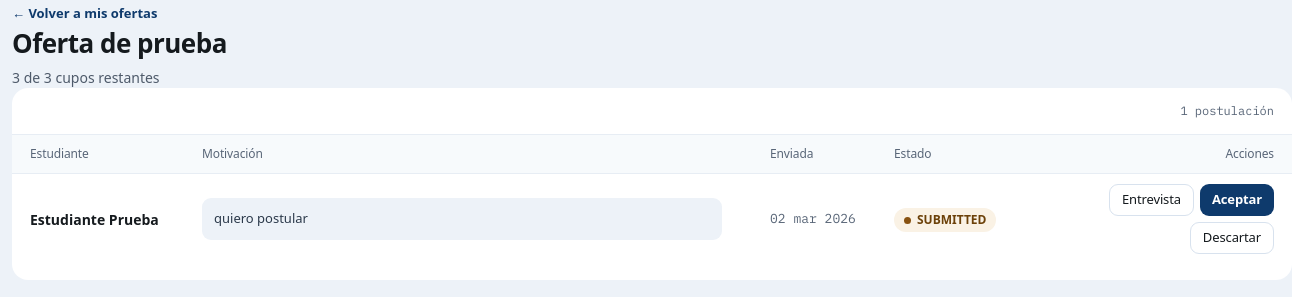
Scenario: OfferApplicationsPage — mensajes de error de carga (F-1b) › cuando falla la recarga tras decidir: 403
Click the button "Aceptar": (1237, 200) [1200,184,1274,216]
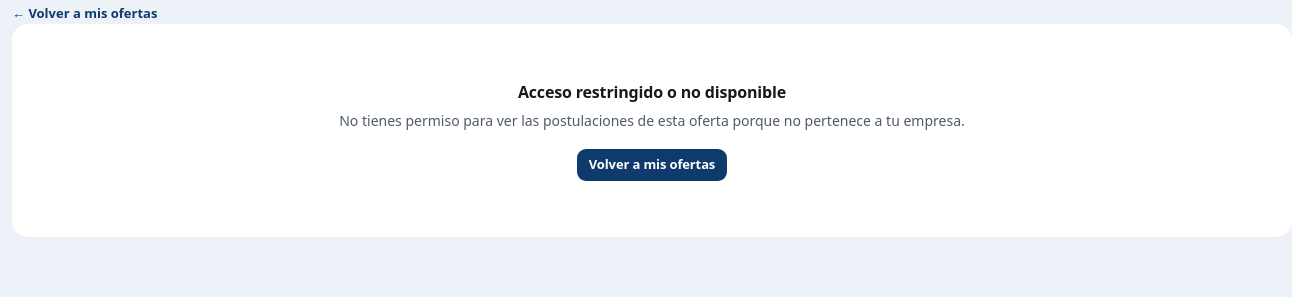
Now the text "No tienes permiso para ver las postulaciones de esta oferta porque no pertenece a tu empresa." is shown, box [339,111,965,130]
Now the text "Acceso restringido o no disponible" is shown, box [518,80,786,104]
